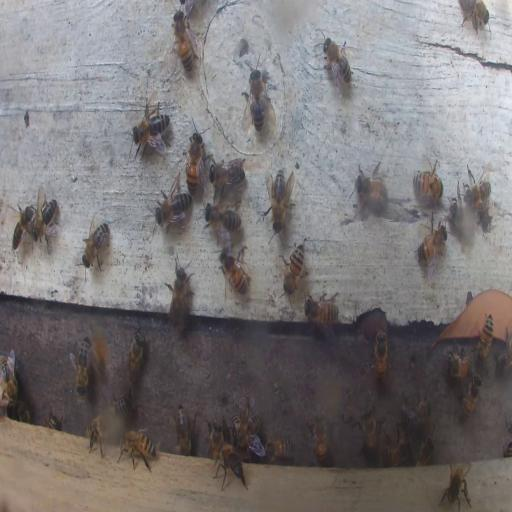bee: (166, 254, 194, 332), (132, 101, 170, 153), (417, 215, 446, 280), (462, 164, 492, 226), (266, 169, 296, 231), (320, 35, 353, 89), (439, 461, 474, 511), (155, 184, 192, 231), (32, 190, 60, 252), (116, 429, 156, 472), (246, 65, 272, 131), (214, 443, 248, 493), (354, 162, 386, 210), (219, 246, 250, 295), (82, 218, 110, 270), (412, 160, 444, 201), (90, 315, 110, 380), (210, 154, 246, 190), (230, 406, 260, 449), (185, 122, 203, 192), (11, 202, 37, 250), (282, 240, 305, 294), (174, 12, 194, 74), (450, 198, 476, 243), (304, 296, 338, 330), (204, 202, 240, 234), (458, 372, 482, 420), (70, 338, 90, 394), (401, 393, 431, 428), (128, 329, 146, 387), (356, 406, 376, 456), (383, 432, 412, 465), (461, 2, 491, 33), (176, 405, 194, 456), (446, 346, 472, 380), (87, 416, 108, 458), (476, 314, 494, 361), (311, 414, 328, 462), (374, 329, 388, 384), (2, 354, 16, 408), (264, 434, 293, 460), (415, 434, 434, 466), (209, 420, 223, 462), (109, 391, 133, 412), (495, 344, 511, 375), (13, 402, 30, 420), (46, 413, 63, 428)
